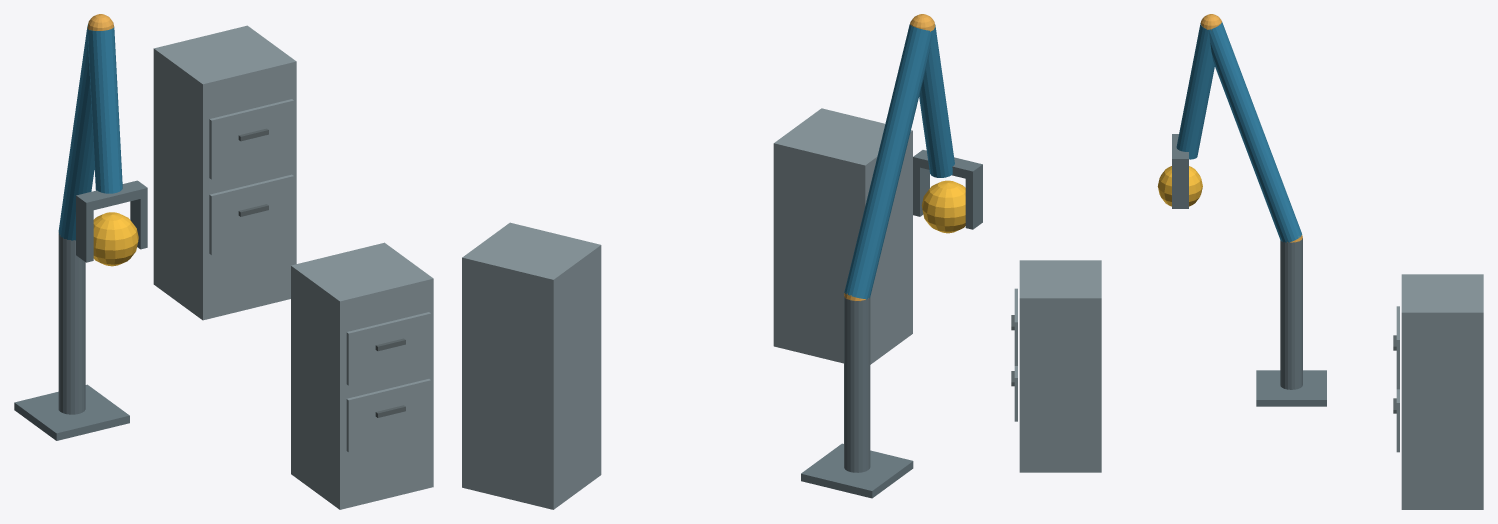
The picture shows the model from 3 angles, left to right: view 1: azimuth 30°, elevation 25°; view 2: azimuth 150°, elevation 25°; view 3: azimuth 270°, elevation 25°; orthographic projection. The views are drawn at different scales.
Parts seen in each view (by area): view 1: cabinet_2 body, cabinet_1 body, cabinet_2 drawer front.001, cabinet_2 drawer front, fixed post, moving link 2, cabinet_1 drawer front, cabinet_1 drawer front.001, moving link 1, pedestal, ball ball_1, gripper bridge (+2 smaller); view 2: cabinet_2 body, cabinet_1 body, moving link 1, fixed post, pedestal, moving link 2, ball ball_1, gripper finger -1, gripper bridge, gripper finger 1; view 3: cabinet_2 body, cabinet_1 body, moving link 1, fixed post, moving link 2, pedestal, ball ball_1, gripper finger 1.
Part boxes in pixels (bbox=[...]): cabinet_2 body: bbox=[153, 25, 296, 320]; cabinet_1 body: bbox=[291, 242, 433, 509]; cabinet_2 drawer front.001: bbox=[209, 99, 293, 179]; cabinet_2 drawer front: bbox=[209, 174, 293, 254]; fixed post: bbox=[58, 234, 85, 414]; moving link 2: bbox=[88, 27, 122, 193]; cabinet_1 drawer front: bbox=[346, 379, 430, 452]; cabinet_1 drawer front.001: bbox=[346, 312, 430, 385]; moving link 1: bbox=[58, 23, 94, 240]; pedestal: bbox=[14, 384, 129, 440]; ball ball_1: bbox=[93, 212, 138, 266]; gripper bridge: bbox=[76, 180, 147, 211]; cabinet_2 body: bbox=[462, 222, 601, 509]; cabinet_1 body: bbox=[773, 108, 912, 364]; moving link 1: bbox=[844, 24, 931, 299]; fixed post: bbox=[844, 295, 870, 472]; pedestal: bbox=[801, 443, 913, 498]; moving link 2: bbox=[919, 24, 954, 177]; ball ball_1: bbox=[921, 180, 965, 233]; gripper finger -1: bbox=[965, 173, 982, 229]; gripper bridge: bbox=[913, 150, 982, 180]; gripper finger 1: bbox=[913, 166, 929, 216]; cabinet_2 body: bbox=[1401, 274, 1483, 509]; cabinet_1 body: bbox=[1019, 260, 1101, 472]; moving link 1: bbox=[1209, 22, 1301, 242]; fixed post: bbox=[1280, 238, 1302, 389]; moving link 2: bbox=[1176, 23, 1214, 159]; pedestal: bbox=[1256, 370, 1326, 406]; ball ball_1: bbox=[1157, 166, 1202, 206]; gripper finger 1: bbox=[1172, 166, 1188, 208].
Size of the model in its own units: 1.19 by 1.44 by 1.67.
